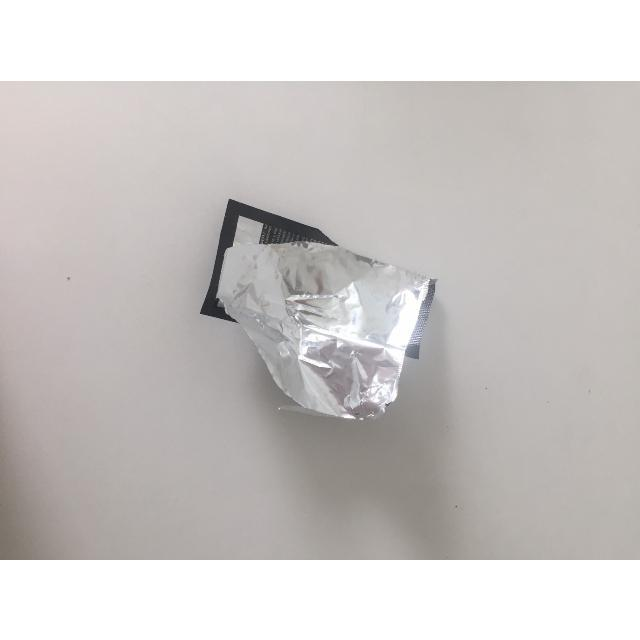Paquete de plastico: (200, 203, 435, 422)
